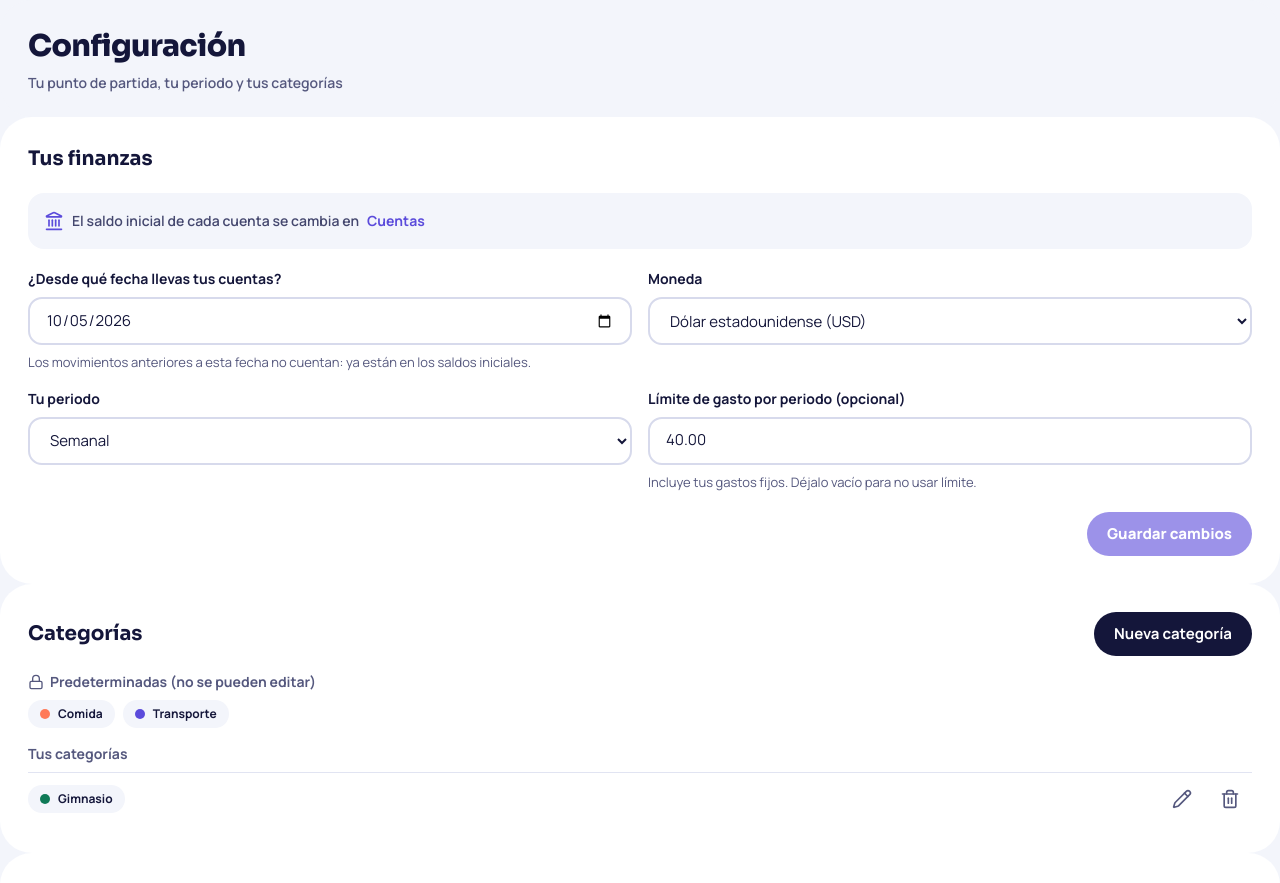
Test: SettingsPage › shows the API message when a category name is taken
Click the button "Nueva categoría" at (1173, 634), box 1094,612 -> 1252,656
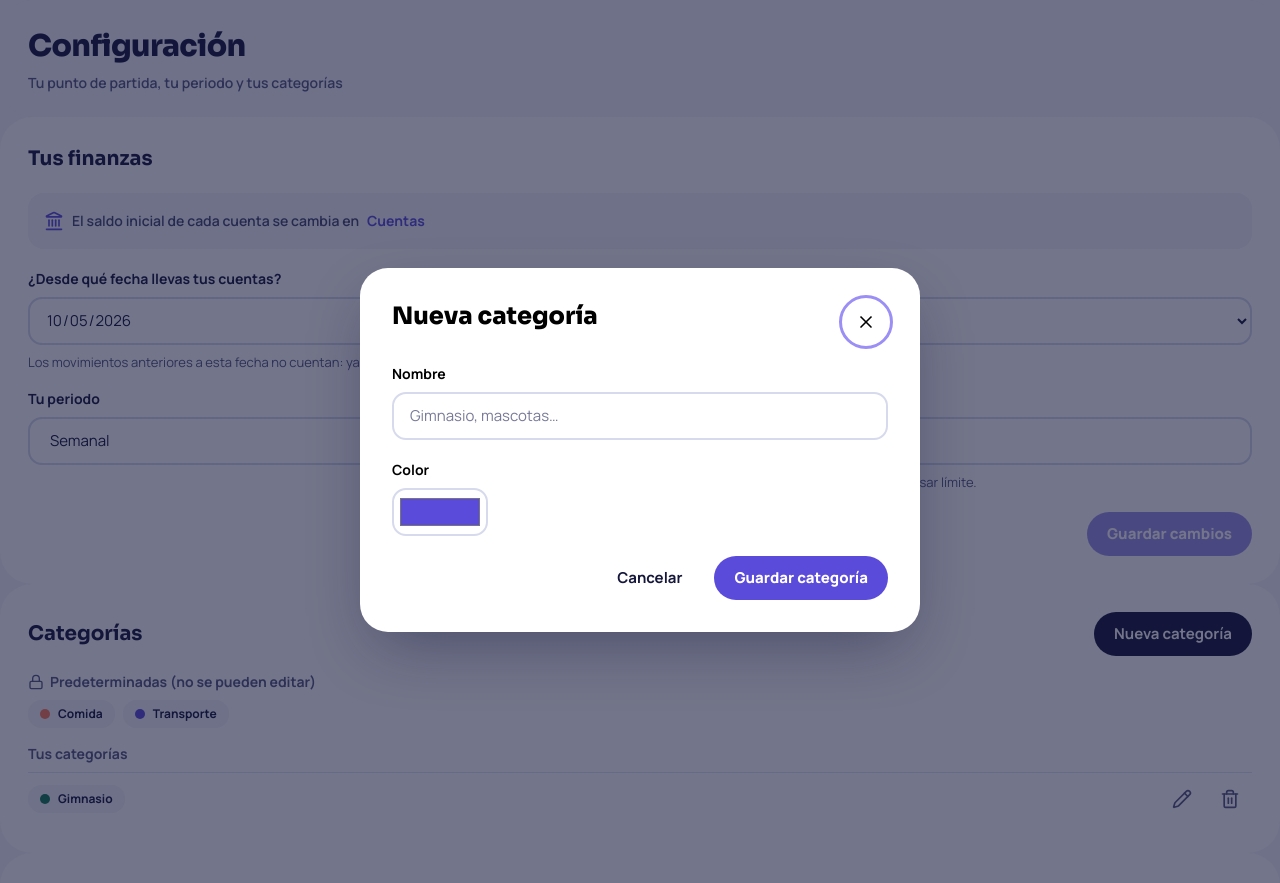
Type "comida" into the field labelled "Nombre" at (640, 416), box 392,392 -> 888,440
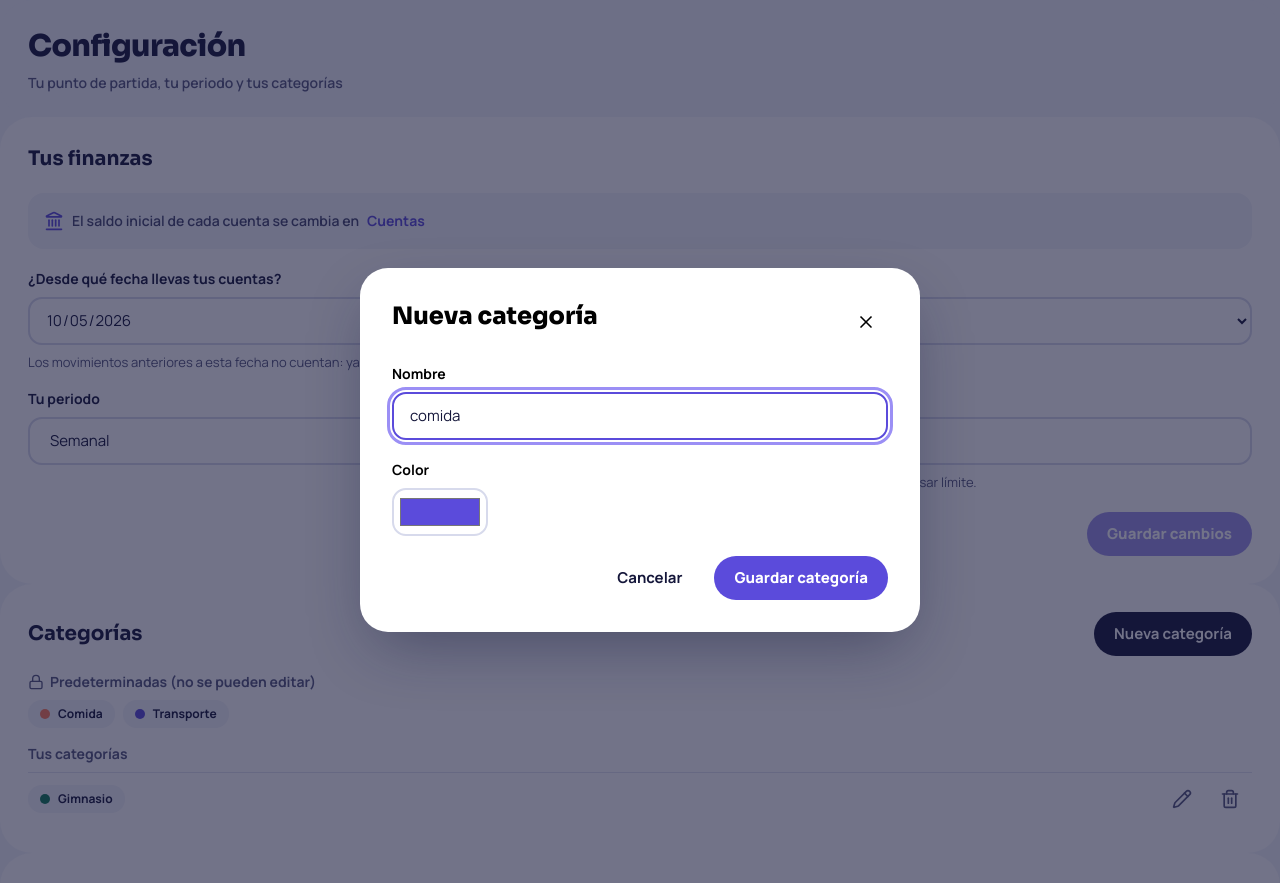
Click the button "Guardar categoría" at (801, 578), box 714,556 -> 888,600
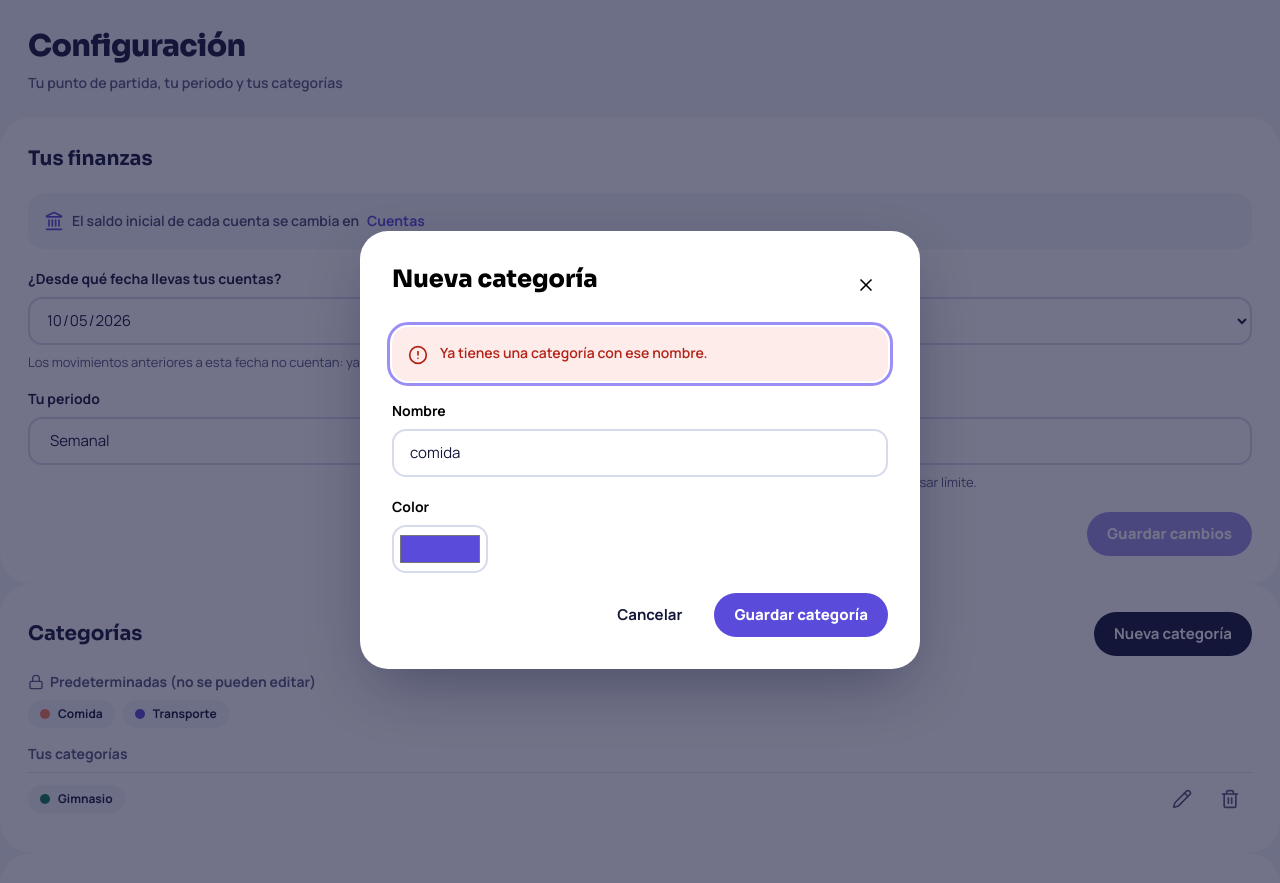
Expected: the message reads "Ya tienes una categoría con ese nombre.", 440,343 -> 708,362
